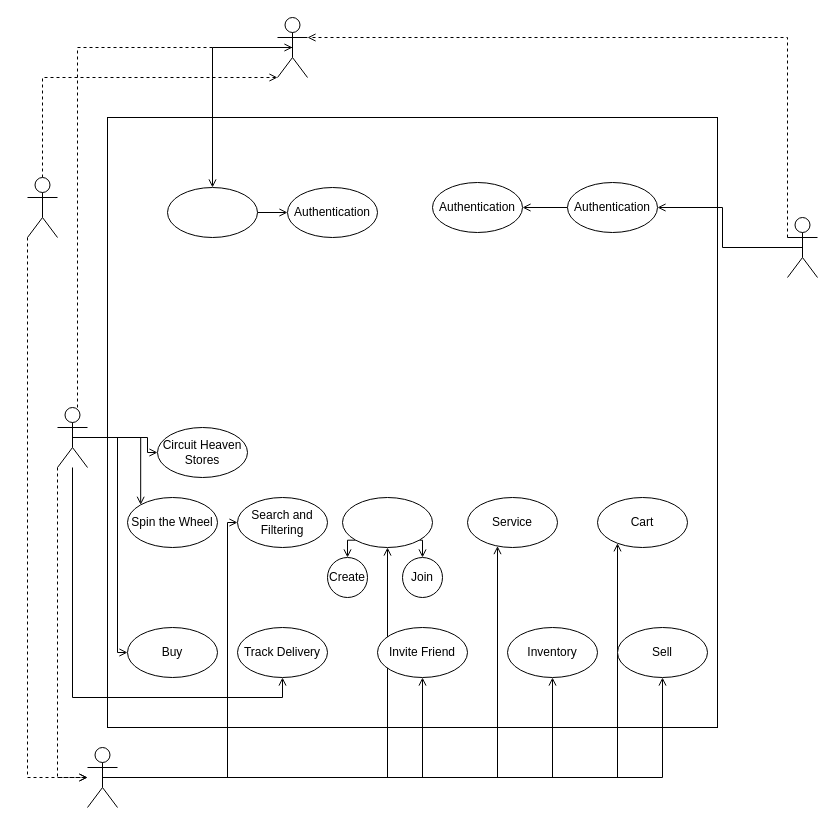
The diagram is 837 pixels wide and 825 high, and some of its shapes have lost their labels. The box of each missing label's shape, as (x1, y1, x2, y2) in pixels:
Admin: (786, 216, 818, 278)
Auction: (342, 496, 432, 548)
Company: (26, 176, 58, 238)
Customer: (56, 406, 88, 468)
Login: (166, 186, 258, 238)
System: (106, 116, 718, 728)
